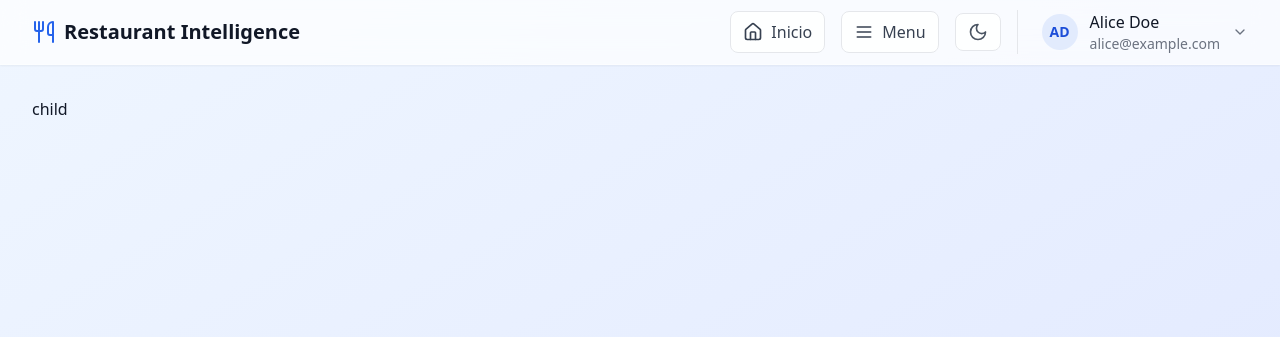
Test: Layout › closes Menu with Escape
Click the button "Menu" at (890, 32), box x1=841 y1=11 x2=939 y2=53
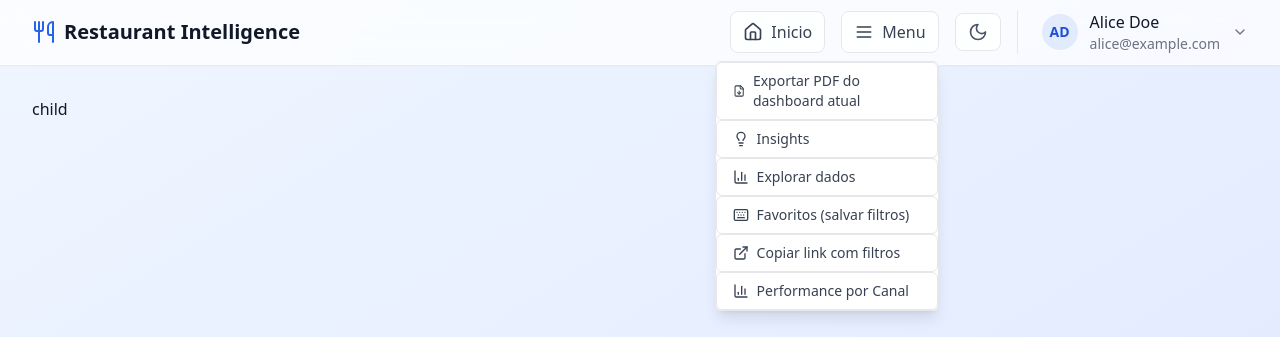
Check: the menu is shown, box x1=715 y1=61 x2=939 y2=311
Press Escape
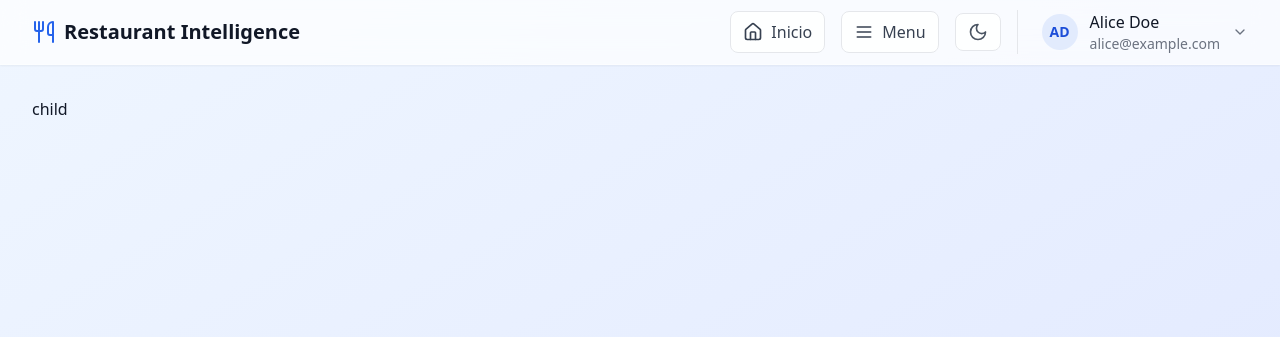
Check: the menu is gone
